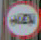Heavy Vehicles: (3, 0, 40, 37)
